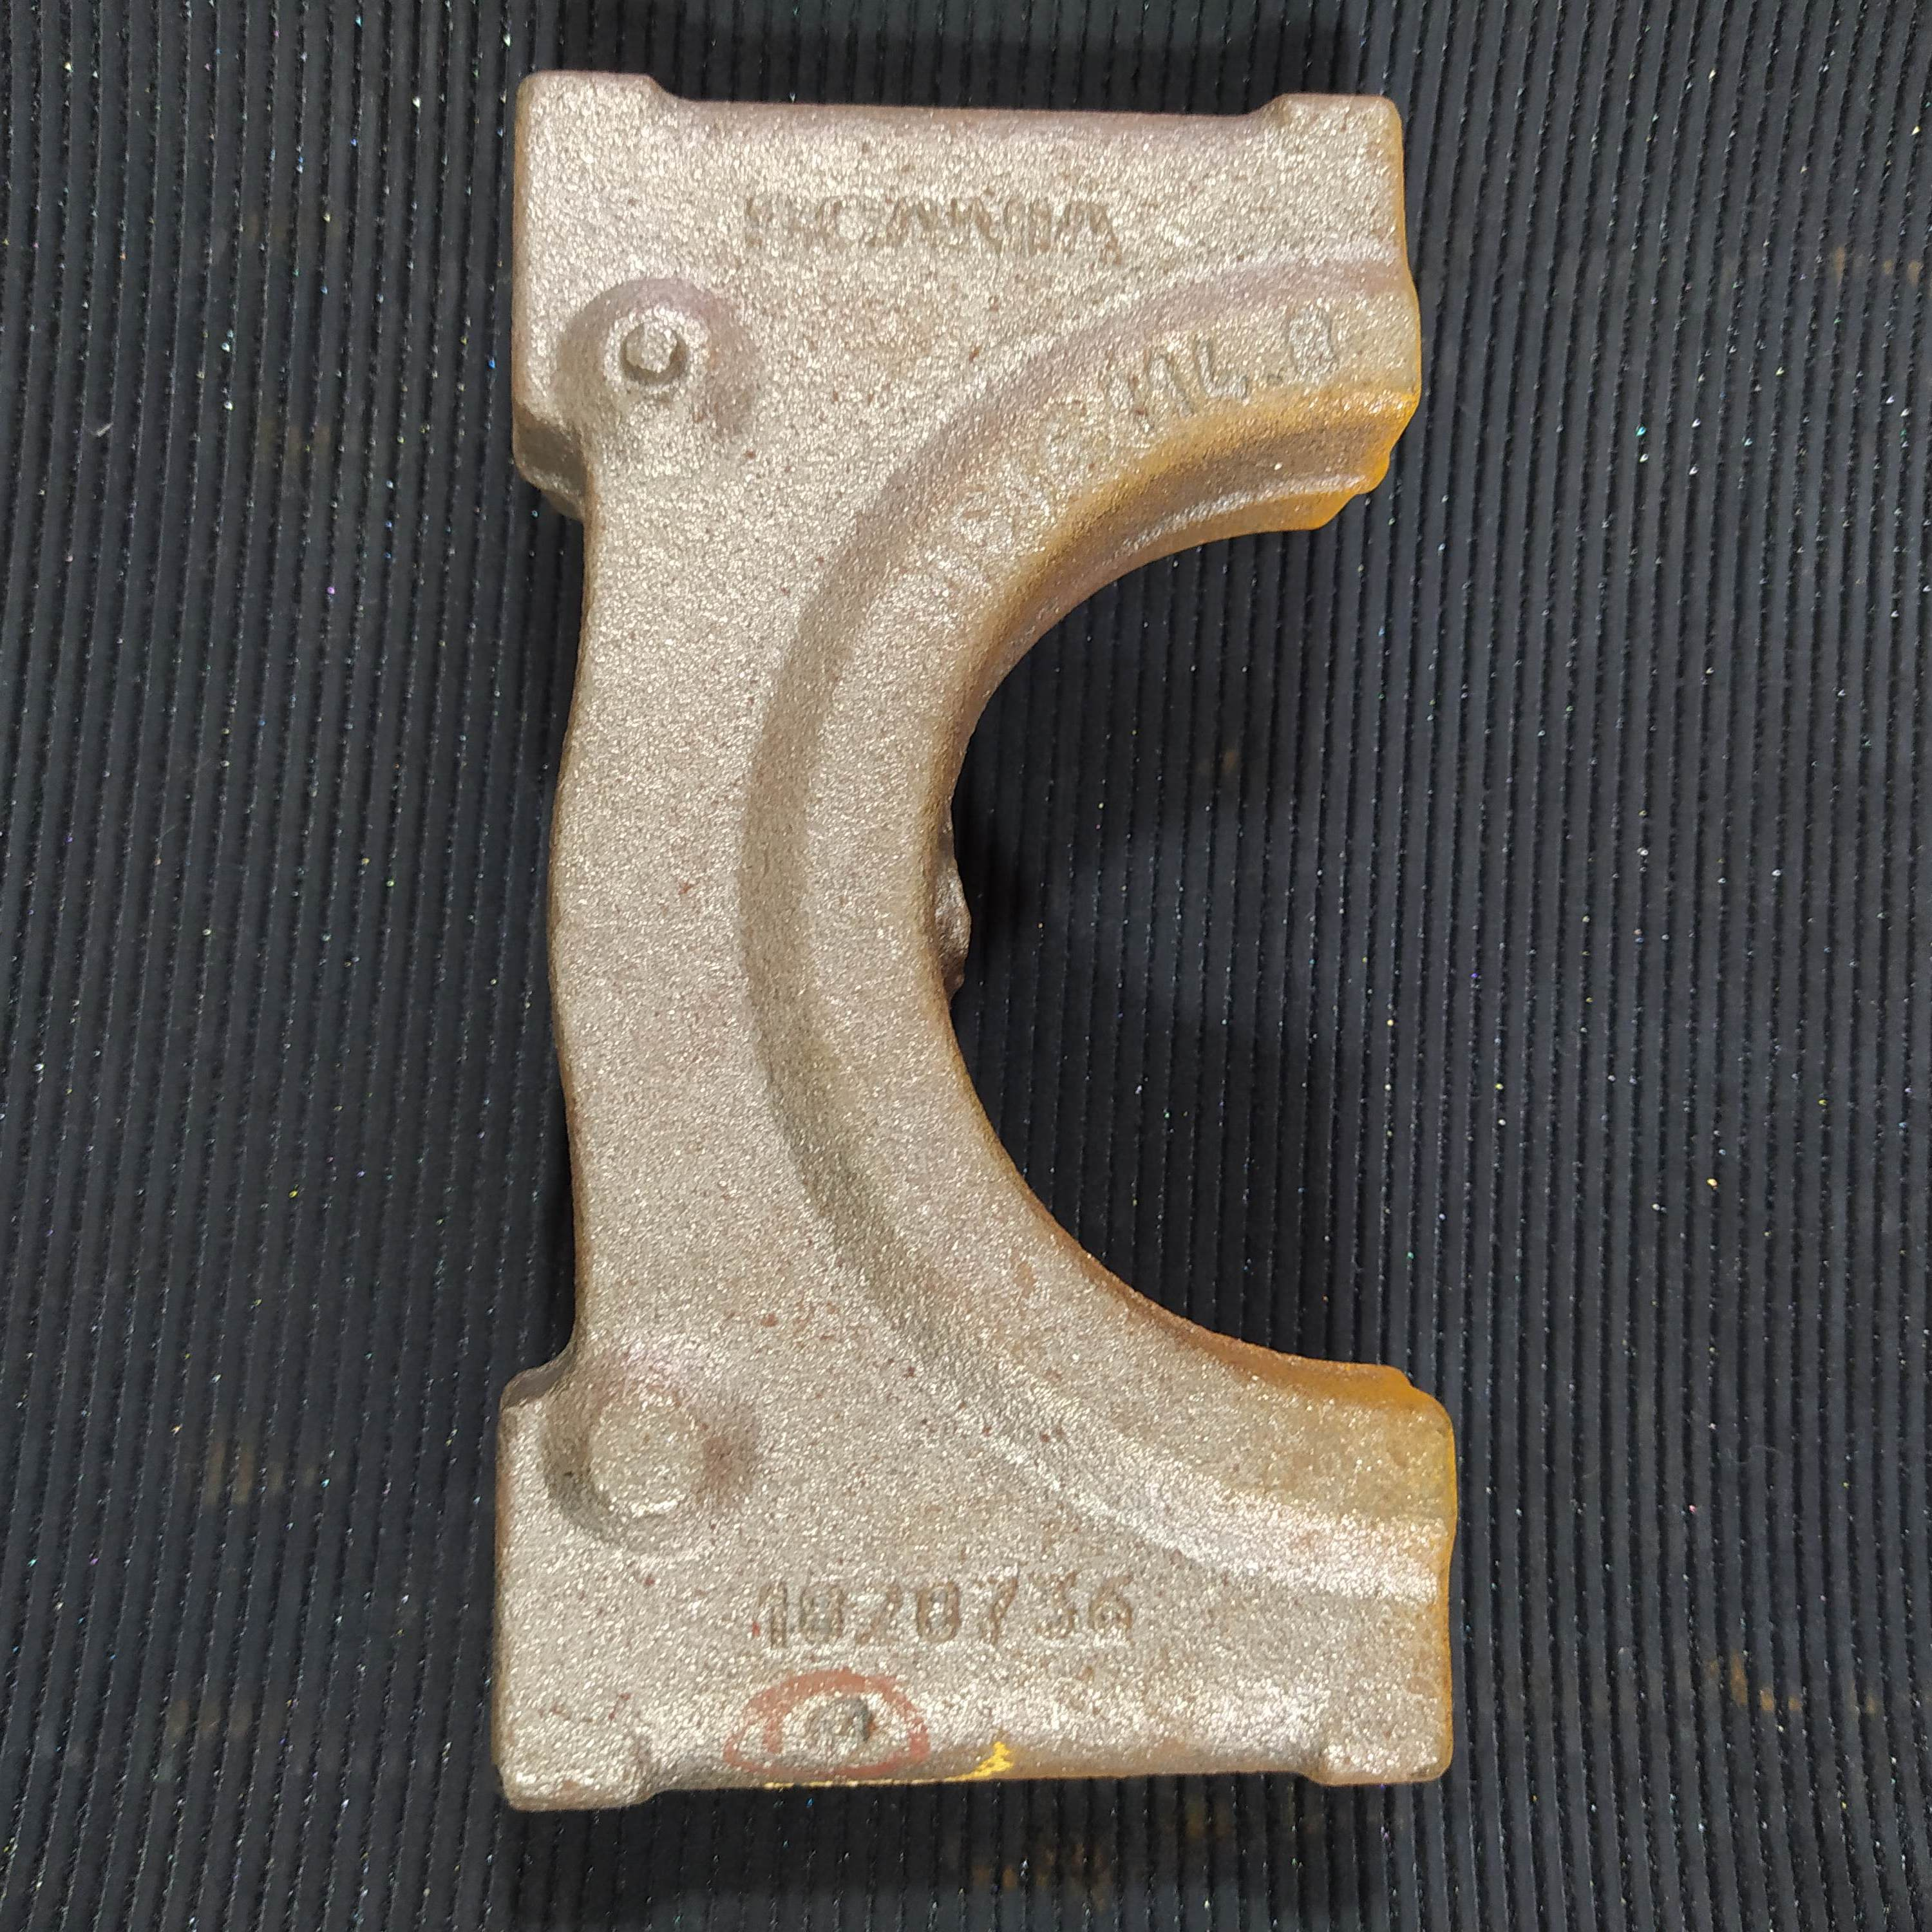buraco: (803, 1691, 874, 1764)
